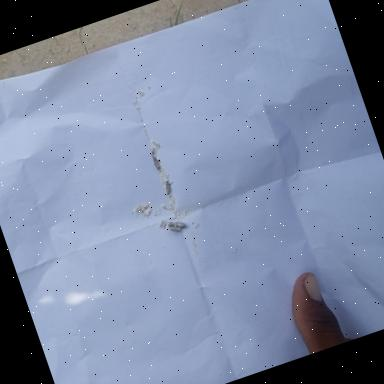pbw: (162, 179, 174, 194), (152, 155, 162, 170)
